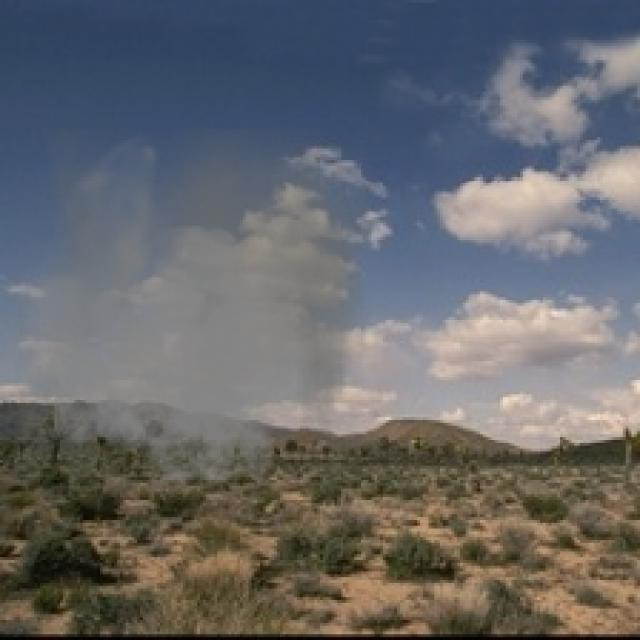smoke: (14, 129, 372, 497)
